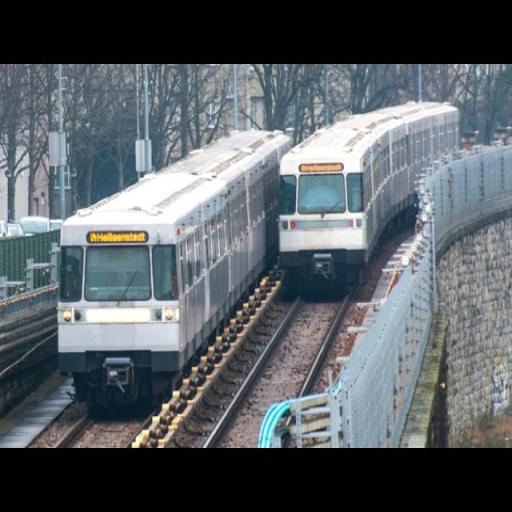Silberpfeil: (56, 102, 292, 382), (281, 101, 458, 276)
